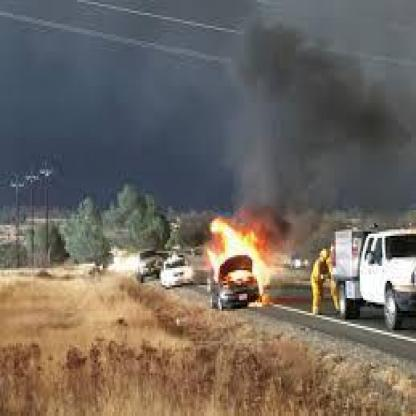fire: (202, 205, 264, 306)
other: (298, 232, 344, 319), (103, 240, 147, 277)
smoke: (226, 11, 392, 200)
